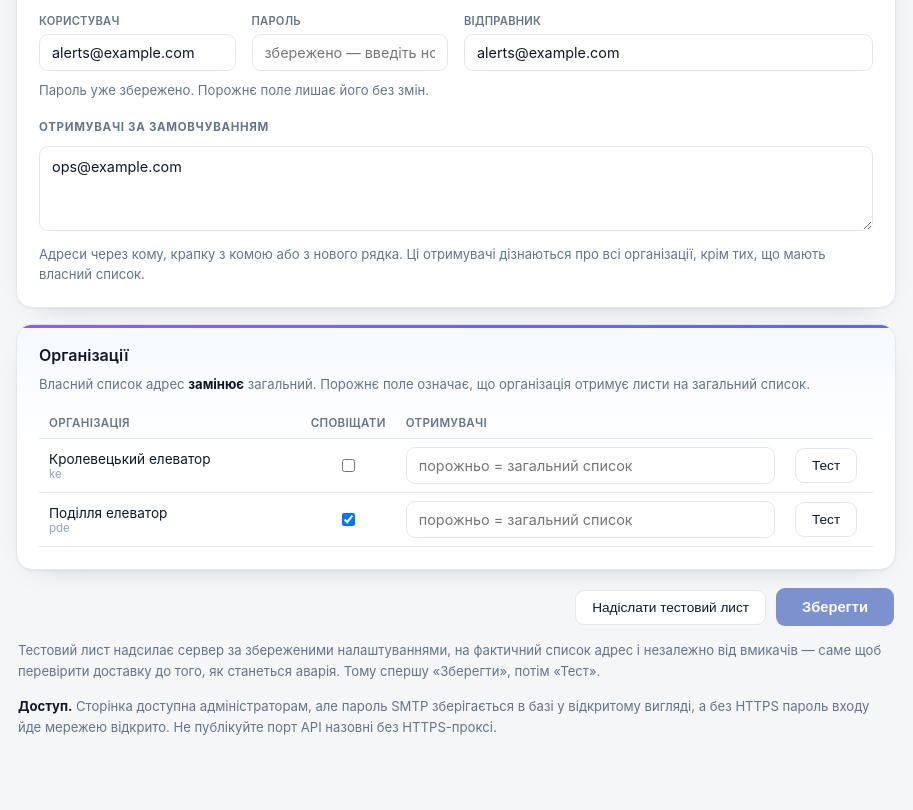
AlertsPage › reports where a test email landed
The width and height of the screenshot is (913, 810).
(page scrolled)
Click the button "Надіслати тестовий лист" at {"x": 671, "y": 607}, box left=575, top=590, right=766, bottom=625
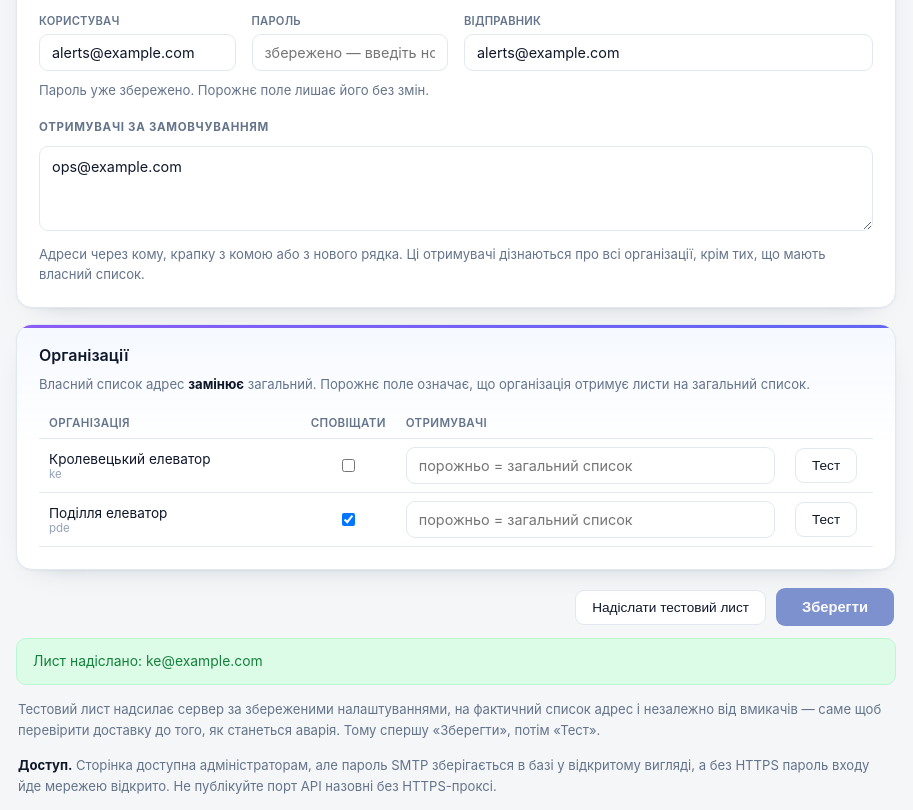
expect the text "Лист надіслано: ke@example.com" is shown: met, box left=16, top=638, right=896, bottom=685
